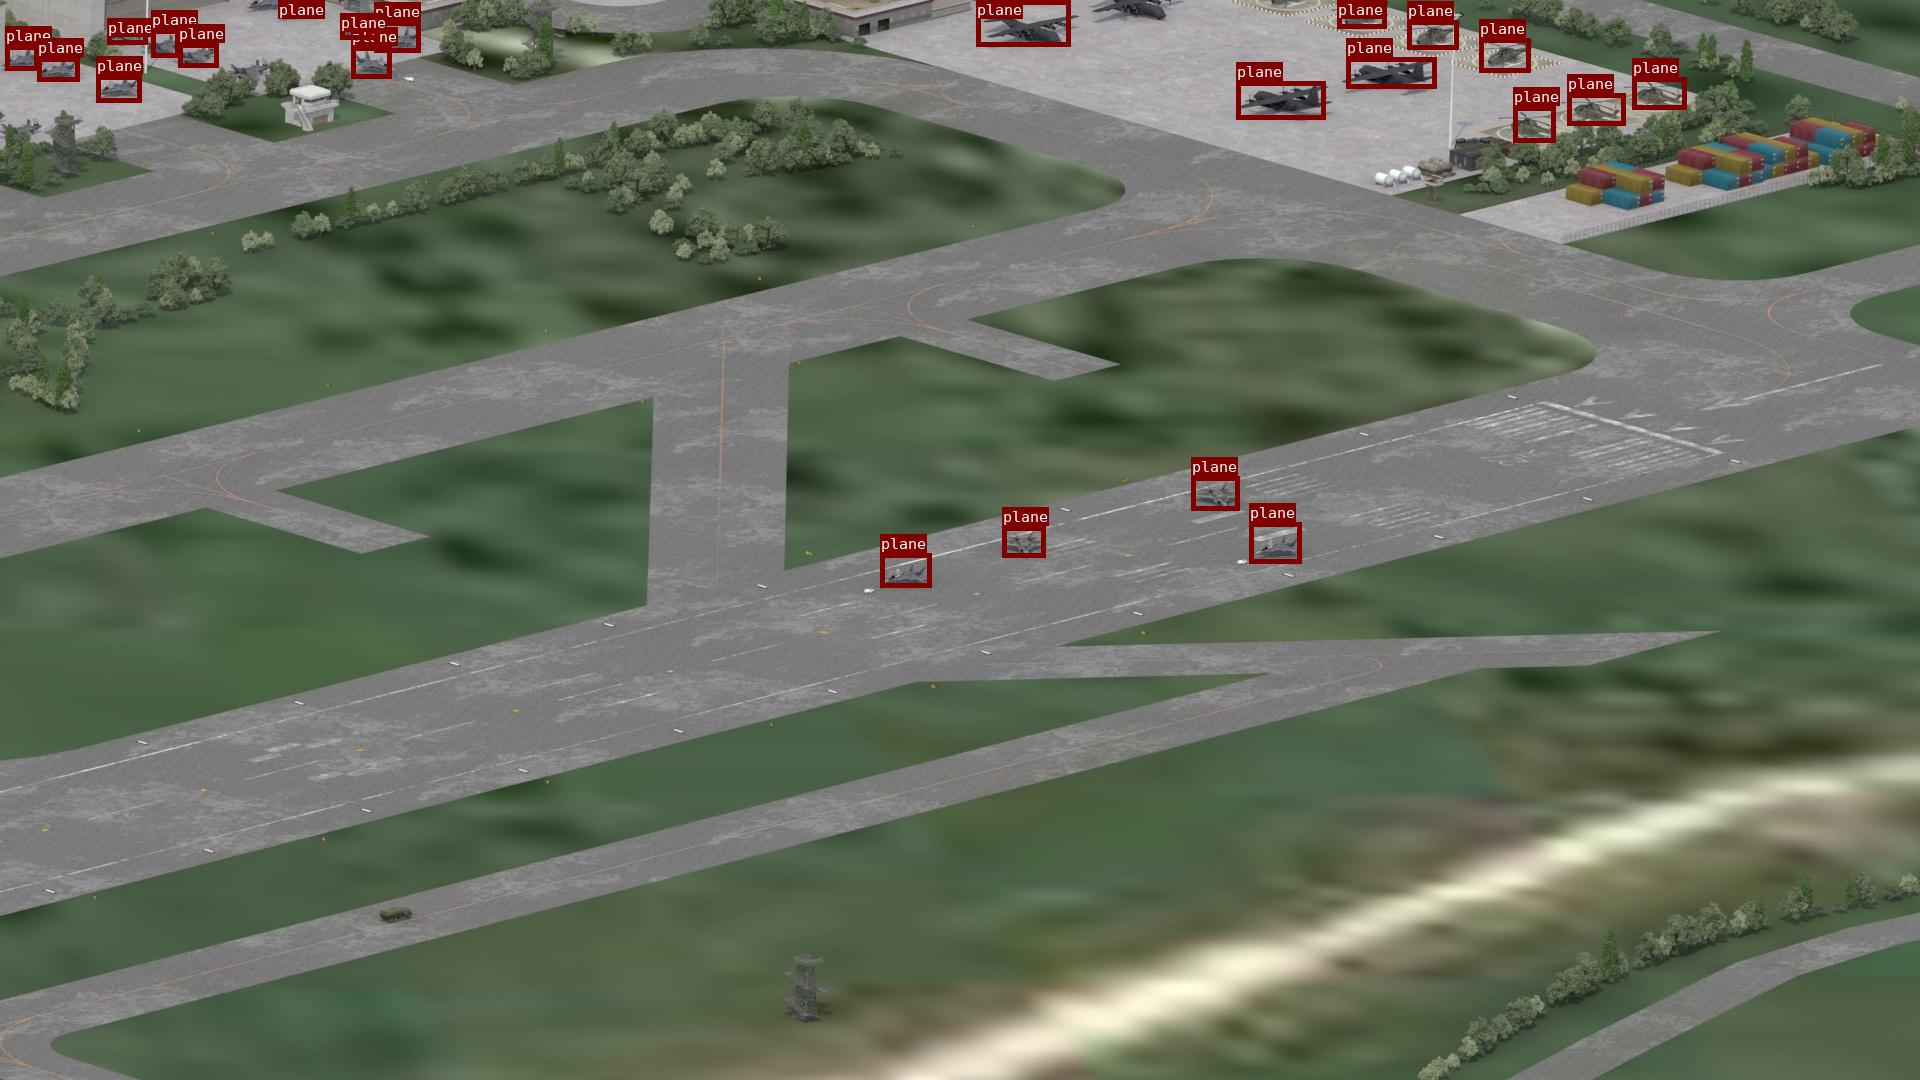plane: (976, 0, 1069, 46), (1236, 80, 1325, 119), (1346, 57, 1436, 88), (1249, 522, 1302, 563), (1567, 94, 1625, 125), (1633, 76, 1687, 109), (880, 553, 931, 587), (1480, 38, 1530, 73), (1191, 476, 1240, 510), (1513, 105, 1555, 142), (1407, 20, 1458, 49), (375, 21, 419, 51), (1337, 0, 1386, 28), (351, 46, 392, 78), (1002, 526, 1044, 556), (96, 75, 141, 102), (340, 13, 378, 40), (37, 57, 79, 80), (107, 18, 146, 44), (178, 44, 218, 67), (5, 45, 38, 70), (152, 29, 179, 57), (278, 0, 315, 18)
